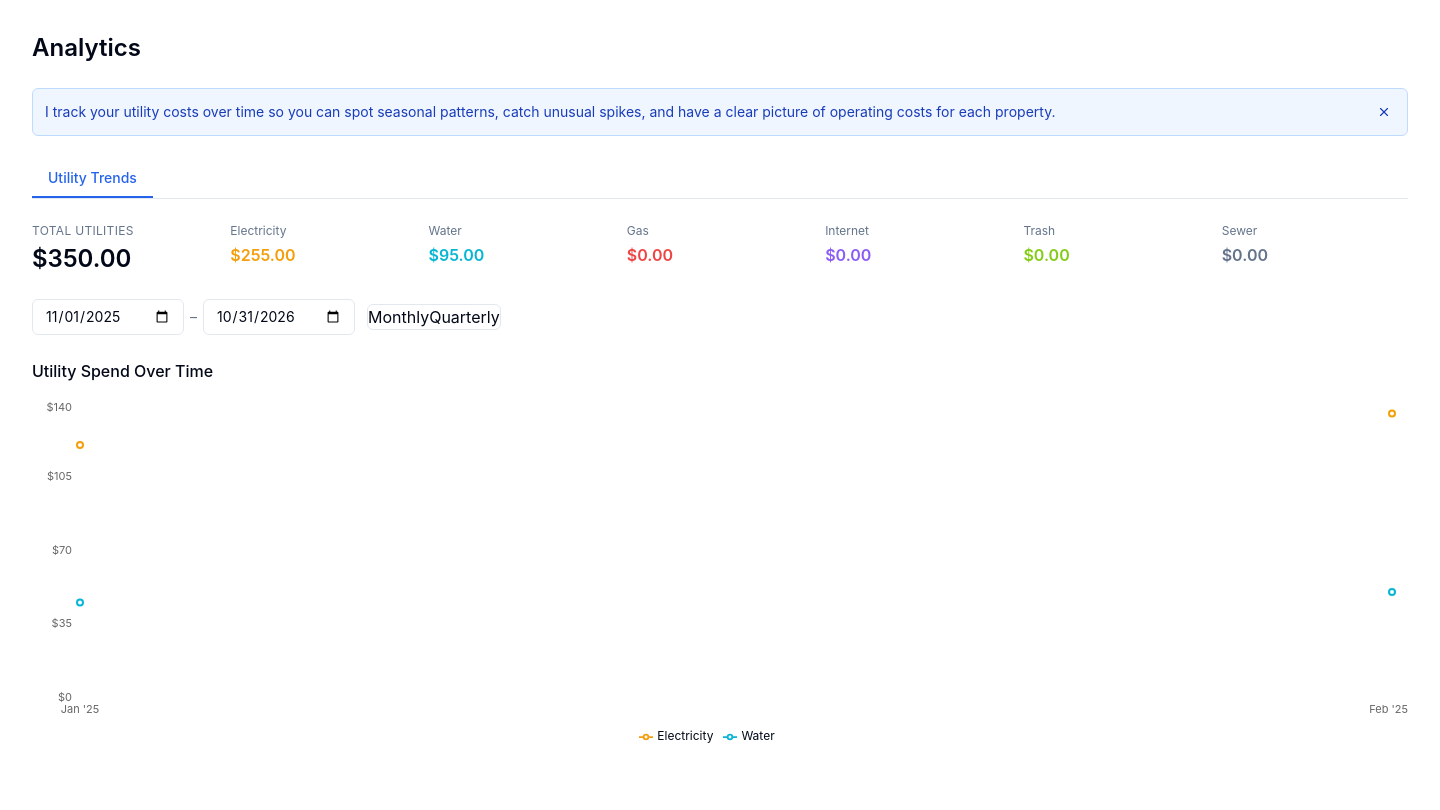
Test: Analytics page shell › dismisses info banner on click
Expected: the text "I track your utility costs over time" is shown, [45, 103, 1055, 120]
Click the button named "Dismiss".
click(1384, 112)  # box [1373, 101, 1395, 123]
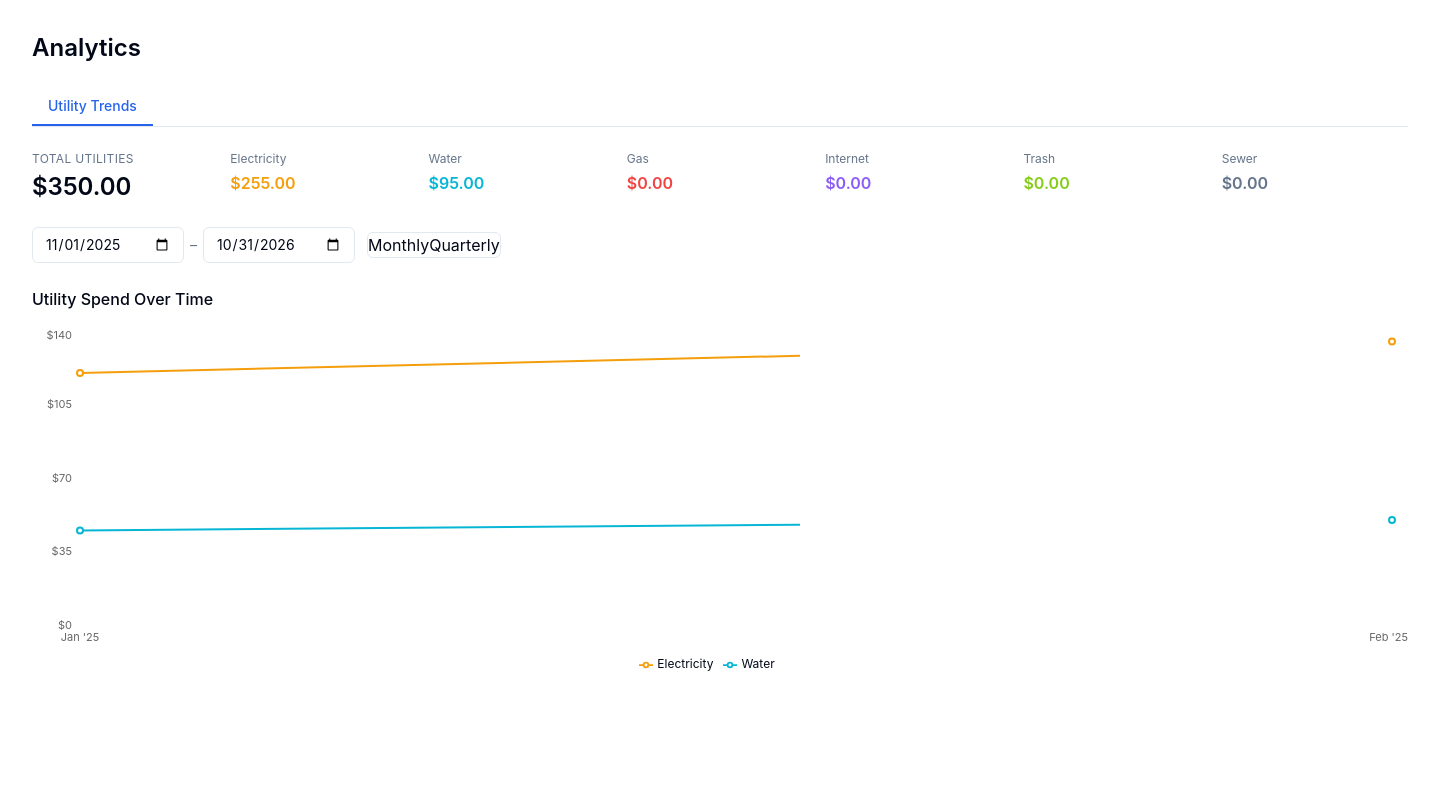
Expected: the text "I track your utility costs over time" is gone
